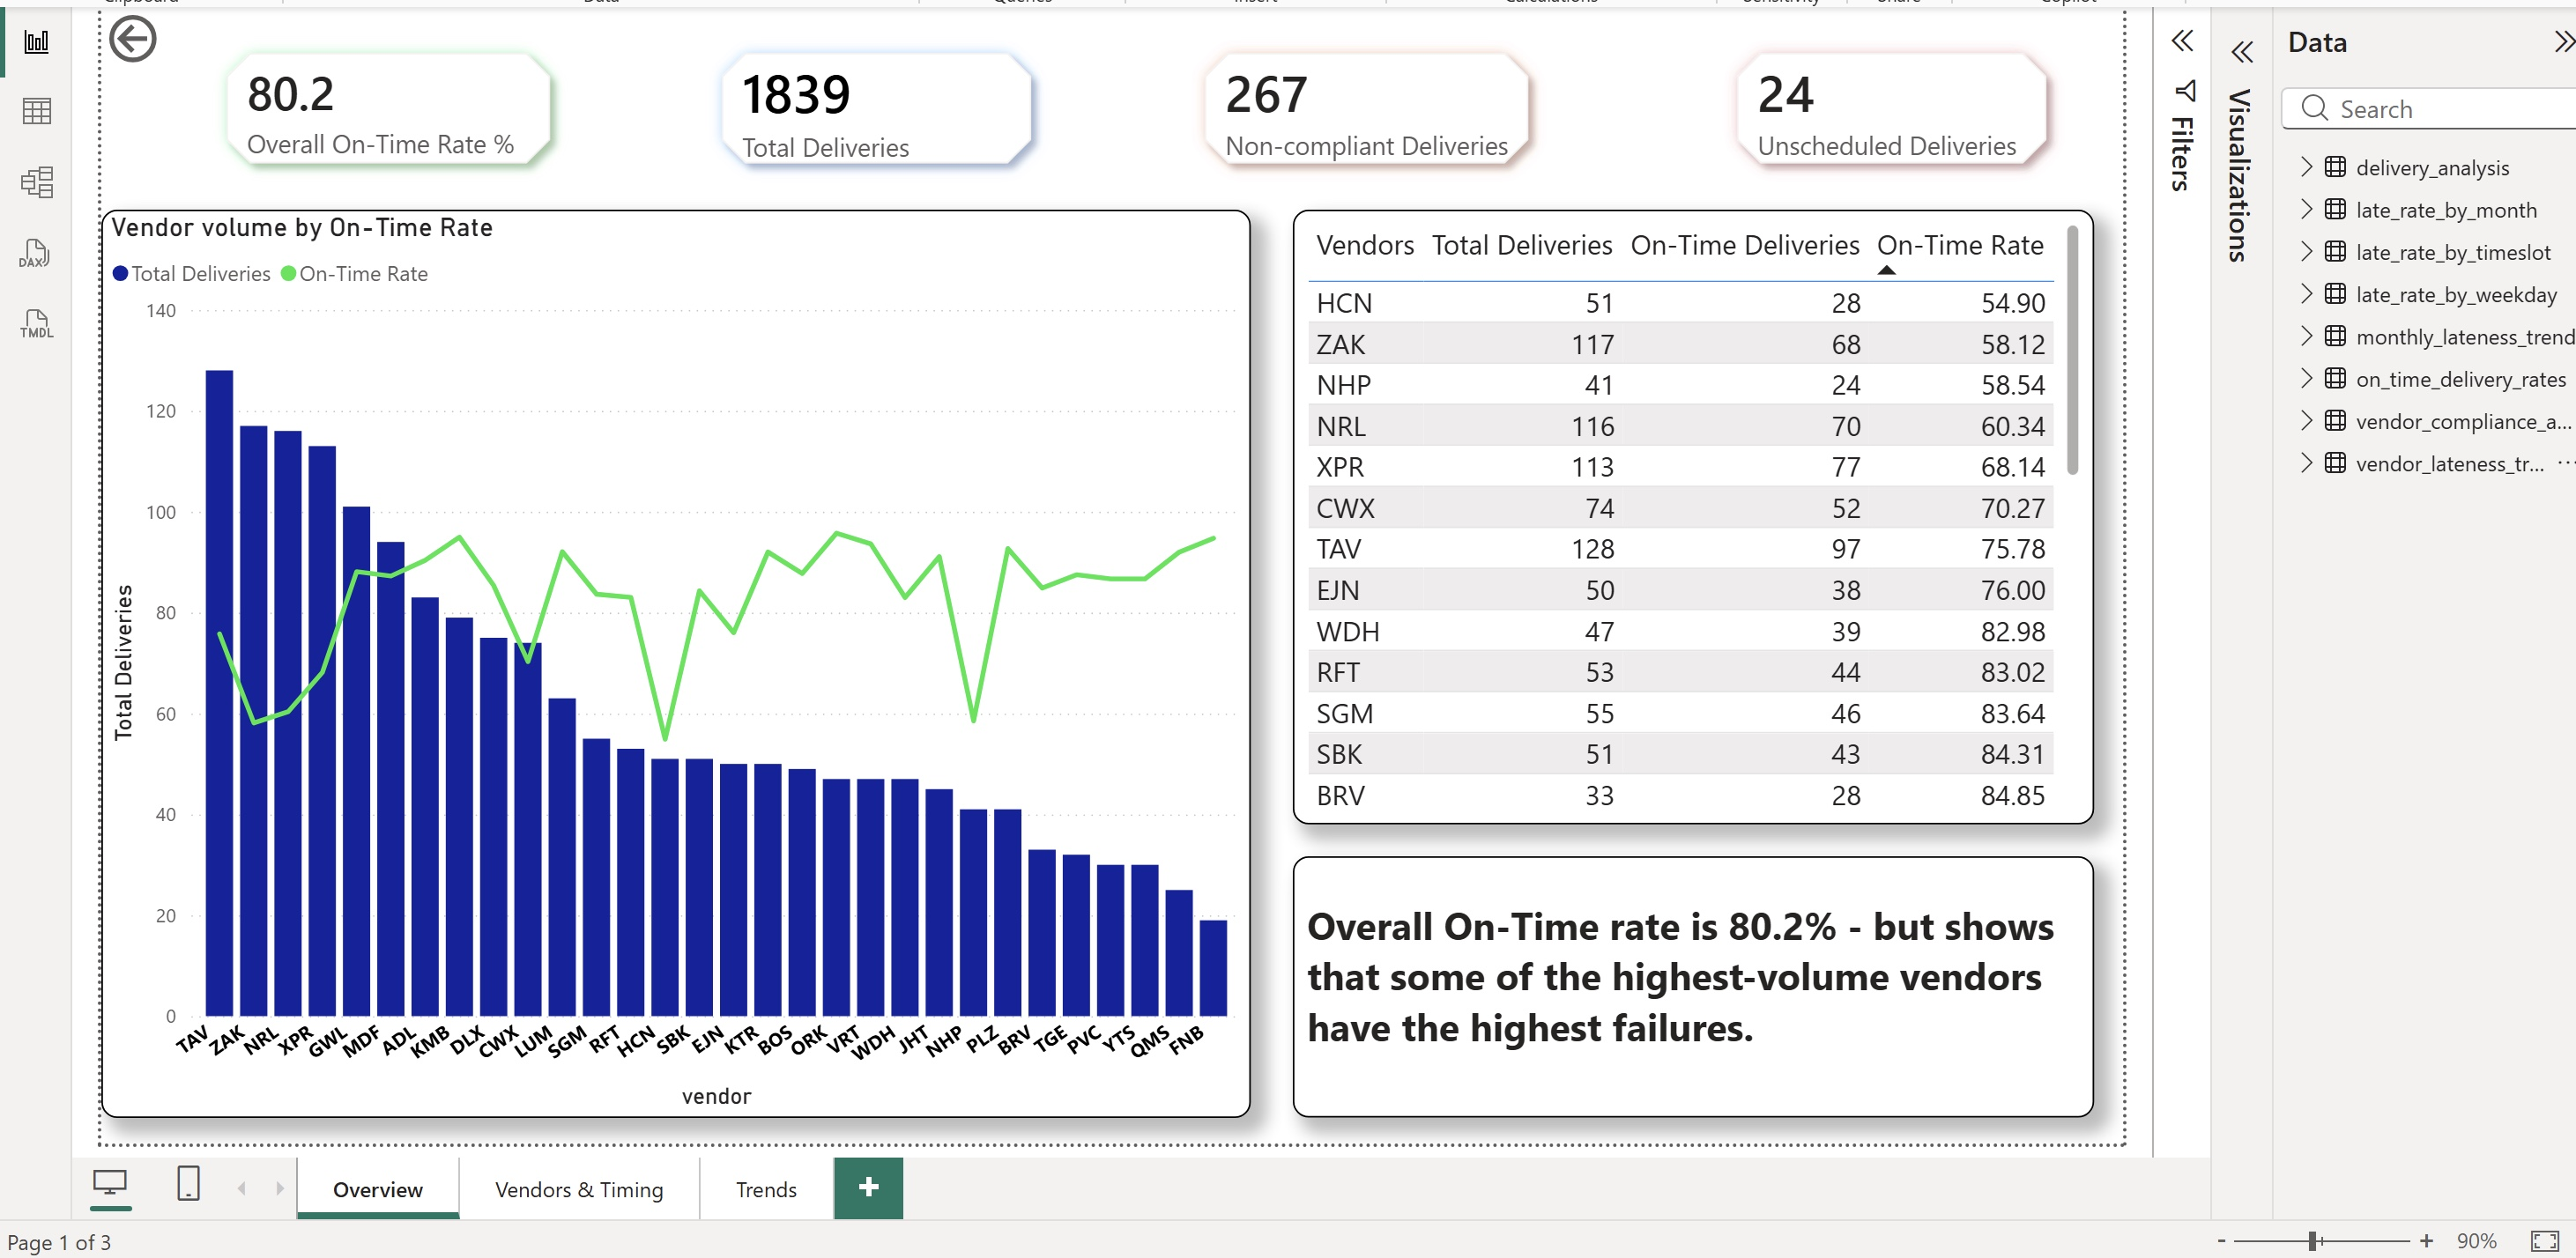

What the dashboard file says about the page in this screenshot:
{"tool":"powerbi","page":{"name":"Overview","canvas":[1280,720],"ordinal":0},"visuals":[{"type":"cardVisual","fields":{"Data":["Sum(on_time_delivery_rates.total_deliveries)"]},"box":[363.9,0,255,128.1],"z":0},{"type":"cardVisual","fields":{"Data":["delivery_analysis.Overall On-Time Rate"]},"box":[50,0,263.9,128.1],"z":1000},{"type":"actionButton","box":[0,0,100,40],"z":2000},{"type":"cardVisual","fields":{"Data":["delivery_analysis.Non-compliant Deliveries"]},"box":[670.1,0,263.9,128.1],"z":3000},{"type":"cardVisual","fields":{"Data":["delivery_analysis.Unscheduled_deliveries"]},"box":[1007.1,0,255,128.1],"z":4000},{"type":"lineClusteredColumnComboChart","title":"Vendor volume by On-Time Rate","fields":{"Category":["on_time_delivery_rates.vendor"],"Y":["Sum(on_time_delivery_rates.total_deliveries)"],"Y2":["Avg(on_time_delivery_rates.on_time_rate)"]},"box":[0,128.1,727.8,575.3],"z":5000},{"type":"tableEx","fields":{"Values":["on_time_delivery_rates.vendor","on_time_delivery_rates.total_deliveries","on_time_delivery_rates.ontime_deliveries","on_time_delivery_rates.on_time_rate"]},"box":[754.7,128.1,507.4,389.5],"z":6000},{"type":"textbox","box":[754.7,538.1,507.4,165.3],"z":7000}]}

Visuals, with their boxes on the page's 1280x720 design canvas (x1, y1, x2, y2). These are canvas units, not pixel positions in the 2576x1258 screenshot, which may show the page scaled, cropped or inside an application window:
cardVisual - Sum(on_time_delivery_rates.total_deliveries): bbox=[364, 0, 619, 128]
cardVisual - delivery_analysis.Overall On-Time Rate: bbox=[50, 0, 314, 128]
actionButton: bbox=[0, 0, 100, 40]
cardVisual - delivery_analysis.Non-compliant Deliveries: bbox=[670, 0, 934, 128]
cardVisual - delivery_analysis.Unscheduled_deliveries: bbox=[1007, 0, 1262, 128]
"Vendor volume by On-Time Rate" lineClusteredColumnComboChart: bbox=[0, 128, 728, 703]
tableEx - on_time_delivery_rates.vendor x on_time_delivery_rates.total_deliveries: bbox=[755, 128, 1262, 518]
textbox: bbox=[755, 538, 1262, 703]
